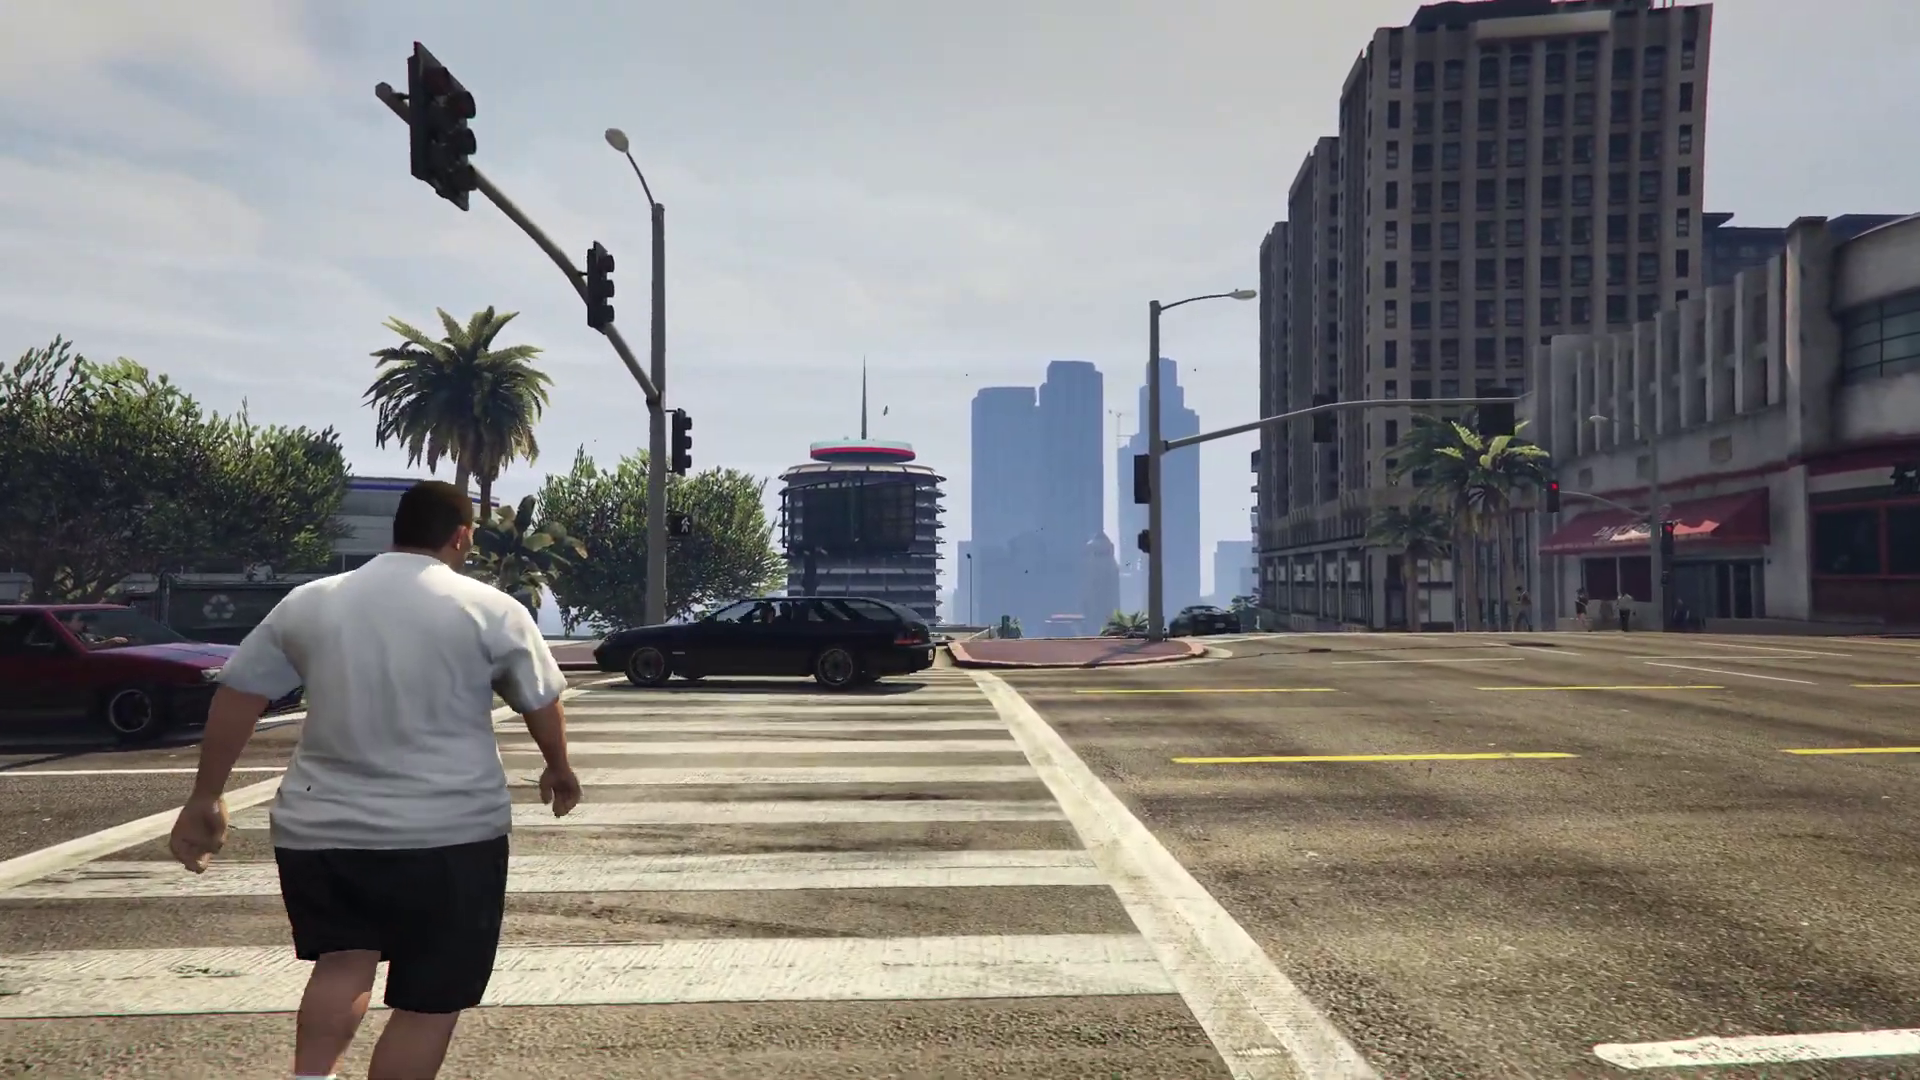car: (1, 603, 303, 738), (593, 597, 939, 693), (1169, 606, 1237, 634)
person: (177, 485, 588, 1080), (1514, 586, 1533, 631), (1616, 588, 1635, 629), (1575, 586, 1591, 632), (1673, 598, 1692, 631)
traffic light: (408, 43, 472, 211), (582, 244, 609, 328), (1478, 388, 1512, 438), (673, 410, 691, 467), (1134, 454, 1148, 502), (1546, 480, 1560, 515), (670, 515, 691, 538), (1663, 521, 1676, 553), (1137, 526, 1151, 553)
